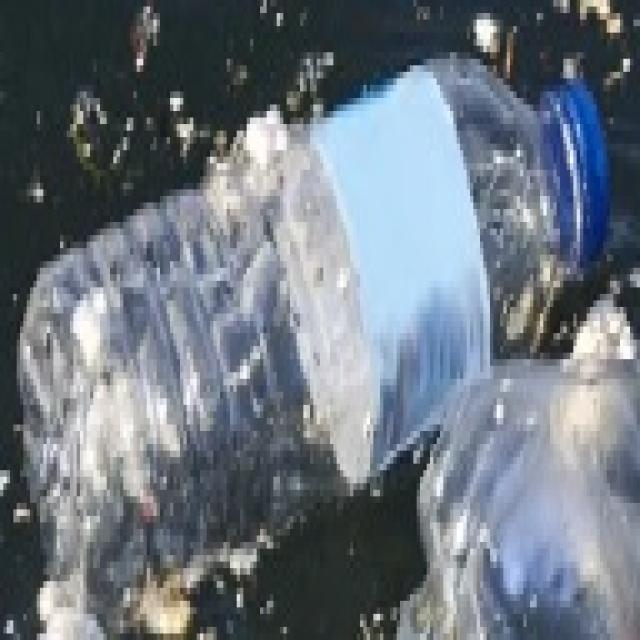plastic bottle: (26, 0, 640, 632)
